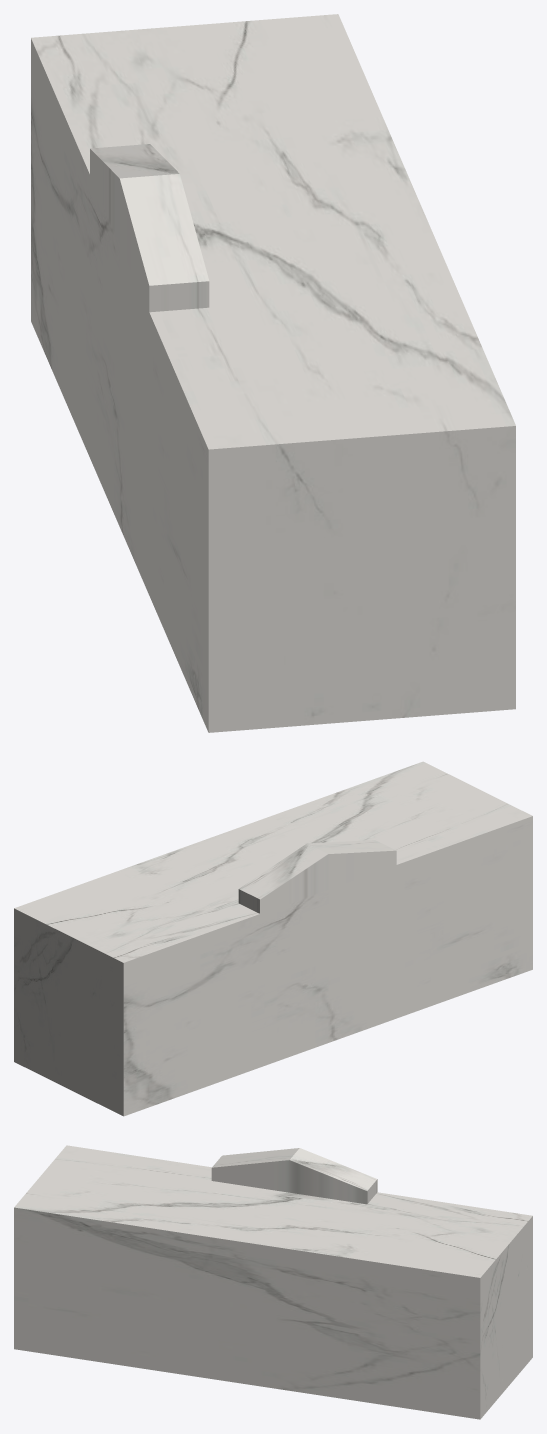
Rendered from MUNTREF-OLD.gltf.
3 views of the same model, one above another, from view 1: azimuth 30°, elevation 25°; view 2: azimuth 150°, elevation 25°; view 3: azimuth 270°, elevation 25° (orthographic). The views are drawn at different scales.
Visible parts, largest first — view 1: MUNTREF; view 2: MUNTREF; view 3: MUNTREF.
Part boxes in pixels (left/top/right/bottom): MUNTREF: left=31, top=14, right=515, bottom=732; MUNTREF: left=14, top=761, right=532, bottom=1116; MUNTREF: left=14, top=1145, right=532, bottom=1419.
Bounding box in the file's own units: 0.9915 × 0.6075 × 1.64.
Materials: 1 (1 with a texture image).
